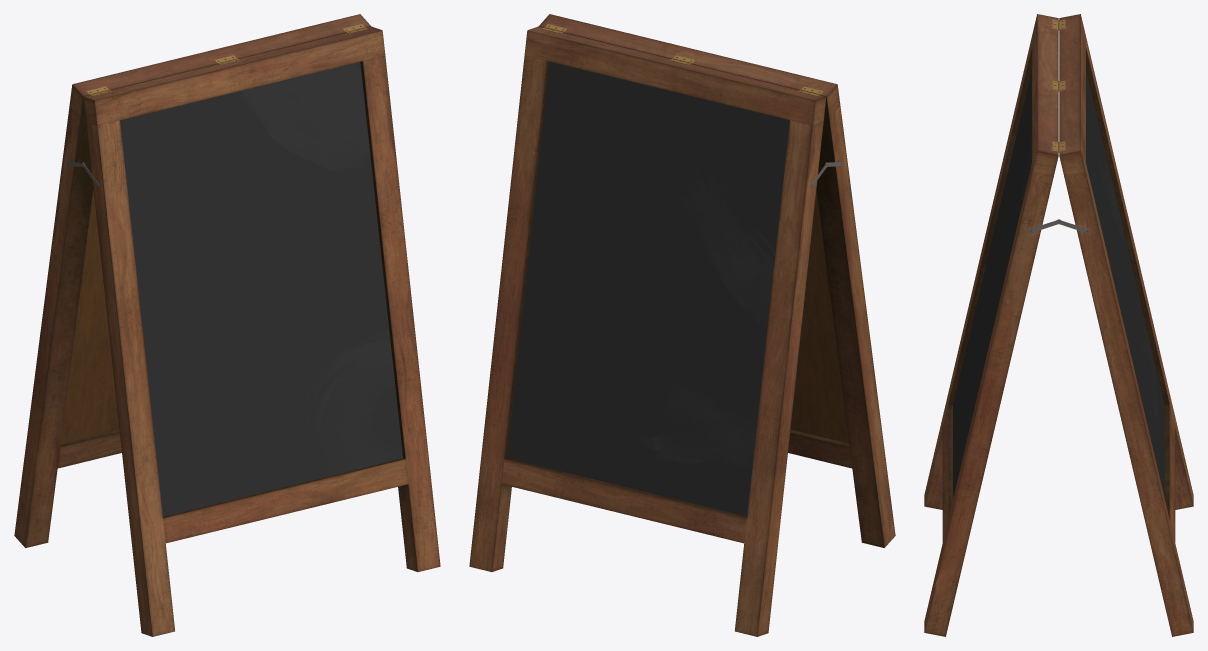
Rendered from standing_chalkboard_01.fbx.
The picture shows the model from 3 angles, left to right: view 1: azimuth 30°, elevation 25°; view 2: azimuth 150°, elevation 25°; view 3: azimuth 270°, elevation 25°; orthographic projection. The views are drawn at different scales.
Visible parts, largest first — view 1: standing_chalkboard_01.001; view 2: standing_chalkboard_01.001; view 3: standing_chalkboard_01.001.
Boxes of the visible parts, left/top/right/bottom form: standing_chalkboard_01.001: left=14, top=14, right=440, bottom=636; standing_chalkboard_01.001: left=469, top=14, right=895, bottom=636; standing_chalkboard_01.001: left=924, top=14, right=1193, bottom=636.
Bounding box in the file's own units: 91.95 × 151 × 75.87.
